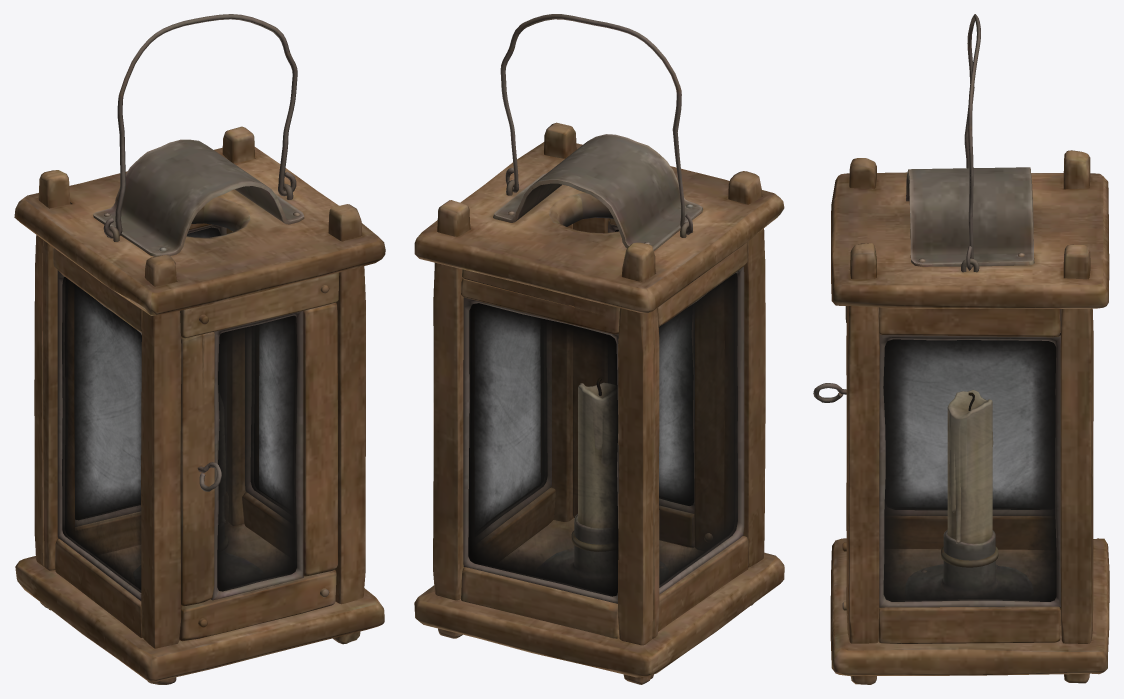
Rendered from wooden_lantern.glb.
3 views of the same model, side by side, from view 1: azimuth 30°, elevation 25°; view 2: azimuth 150°, elevation 25°; view 3: azimuth 270°, elevation 25° (orthographic).
Visible parts, largest first — view 1: wooden_lantern_01, wooden_lantern_01_door, wooden_lantern_01_handle; view 2: wooden_lantern_01, wooden_lantern_01_door, wooden_lantern_01_handle; view 3: wooden_lantern_01, wooden_lantern_01_handle, wooden_lantern_01_door.
Part boxes in pixels (x1,y1,x2,y2): wooden_lantern_01: (14,126,385,684); wooden_lantern_01_door: (179,272,339,641); wooden_lantern_01_handle: (103,14,297,238); wooden_lantern_01: (414,122,784,684); wooden_lantern_01_door: (573,217,724,549); wooden_lantern_01_handle: (500,14,692,234); wooden_lantern_01: (830,150,1109,684); wooden_lantern_01_handle: (964,14,980,270); wooden_lantern_01_door: (813,306,847,610).
Size of the model in its own units: 0.221 by 0.5301 by 0.2347.
2 materials, 2 textured.
